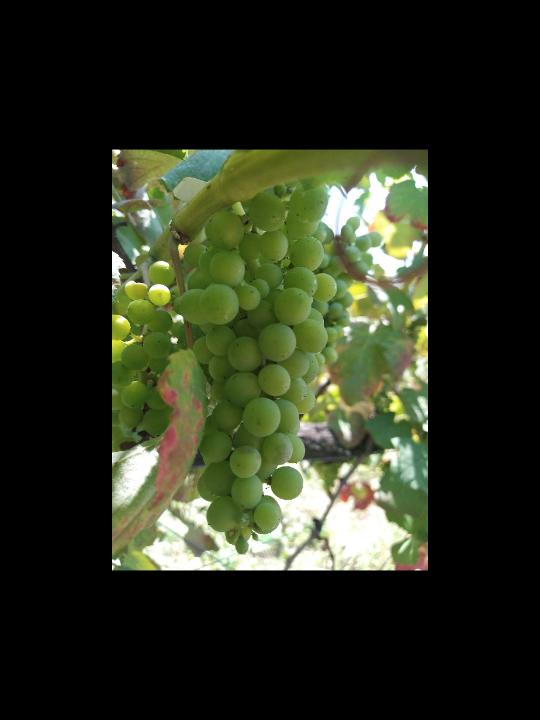grape: (173, 181, 337, 555)
